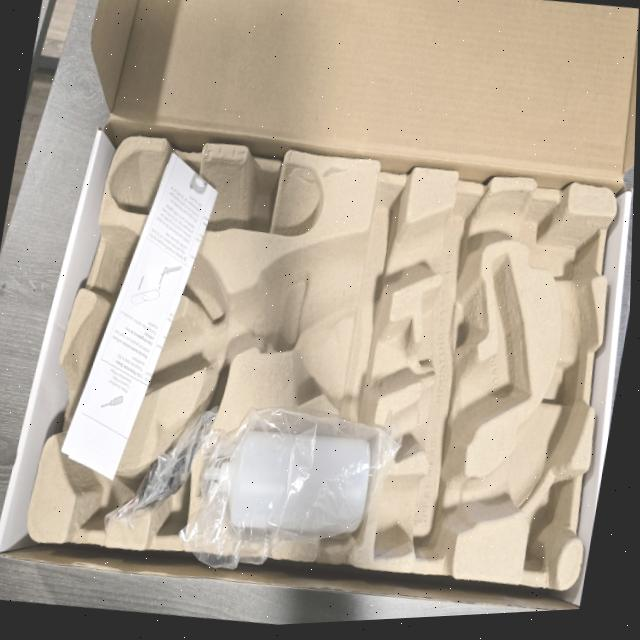1m: (49, 193, 596, 554)
2m: (393, 254, 530, 461)
3: (199, 430, 369, 532)
4m: (110, 148, 323, 239)
5m: (96, 240, 161, 306)
6m: (65, 416, 123, 526)
7: (103, 404, 214, 538)
8: (59, 149, 217, 484)
